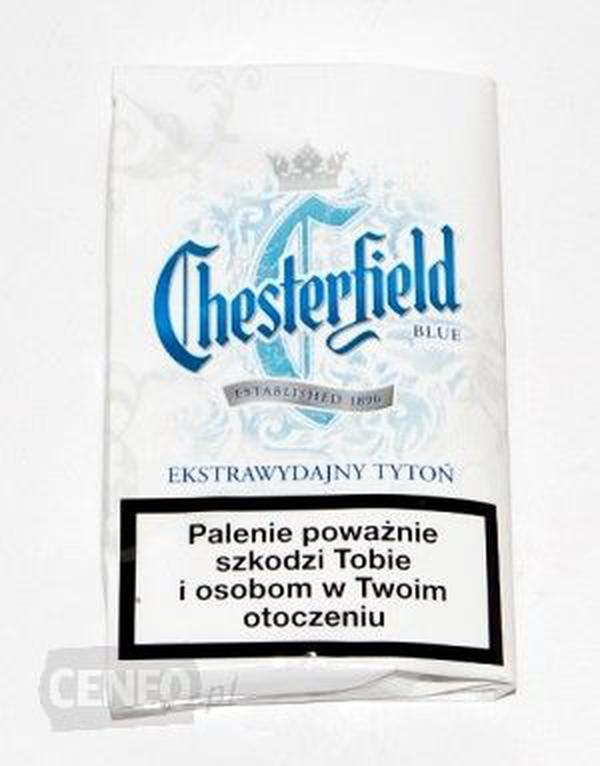chesterfield_blue: (113, 66, 505, 675)
